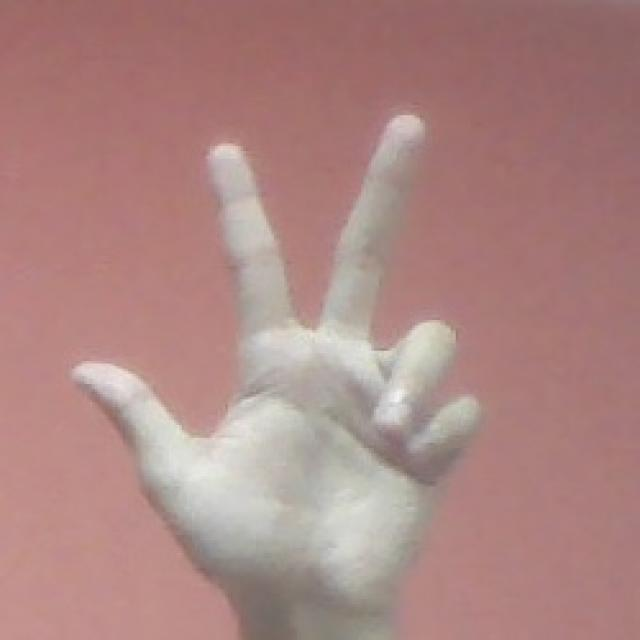Numeric-3: (68, 107, 483, 640)
